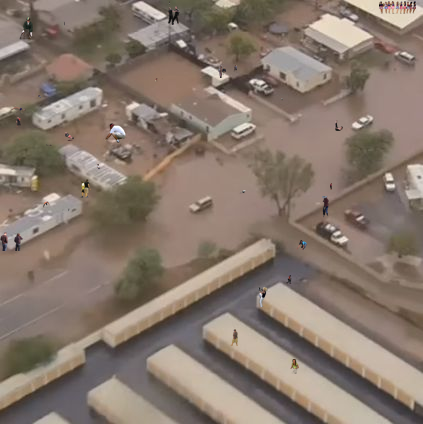Human: (258, 286, 282, 307), (17, 17, 34, 46), (379, 1, 416, 14), (103, 123, 127, 143), (0, 232, 23, 251), (277, 359, 299, 374), (218, 65, 237, 78), (168, 6, 180, 25), (80, 179, 91, 198), (322, 196, 329, 220), (230, 329, 238, 346), (334, 116, 343, 131), (8, 107, 26, 114), (296, 240, 307, 250), (56, 208, 70, 214), (65, 132, 74, 141), (38, 92, 49, 98), (16, 117, 21, 128), (286, 275, 292, 284), (43, 201, 50, 208), (239, 190, 250, 194), (155, 78, 163, 83), (97, 164, 102, 169), (330, 183, 332, 190), (46, 144, 52, 146), (281, 98, 283, 101), (326, 228, 328, 231), (179, 304, 181, 307), (64, 21, 65, 26), (169, 1, 170, 5), (8, 228, 9, 229)
